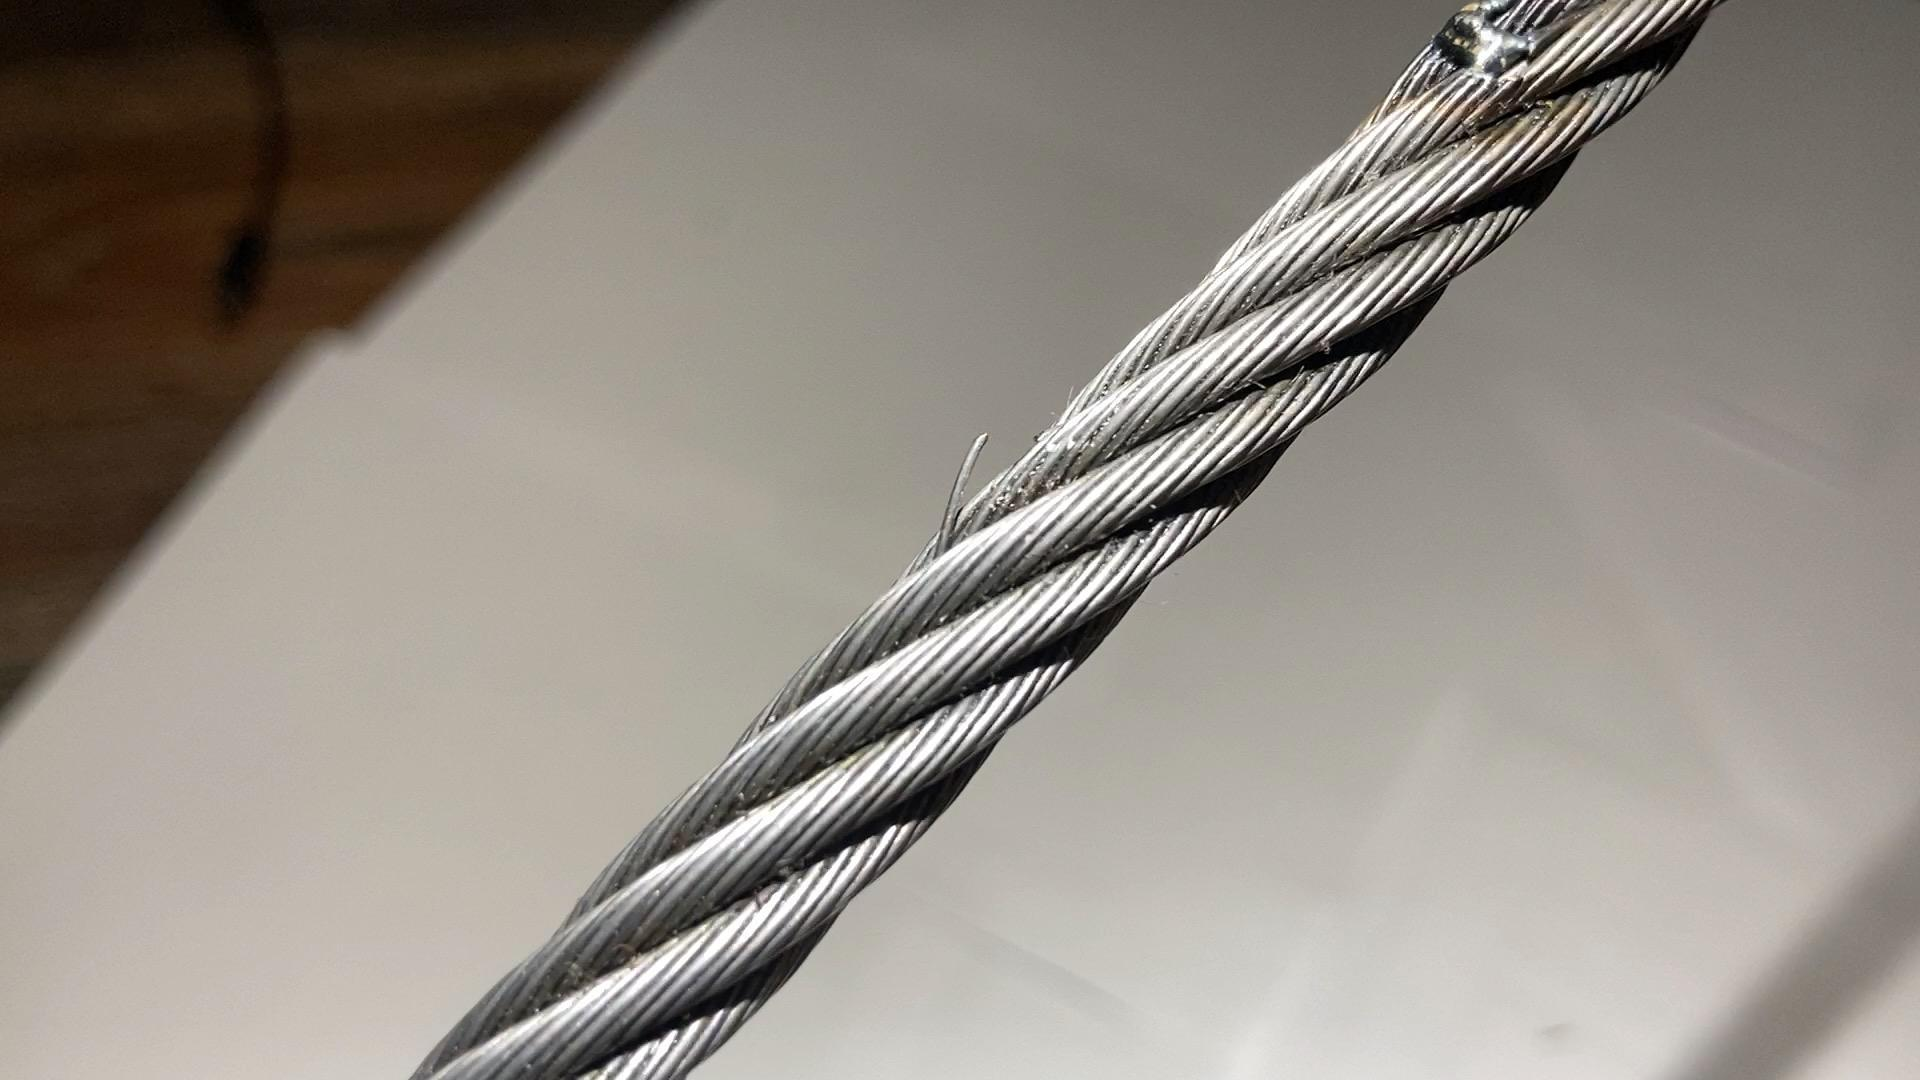break: (901, 419, 1040, 541)
